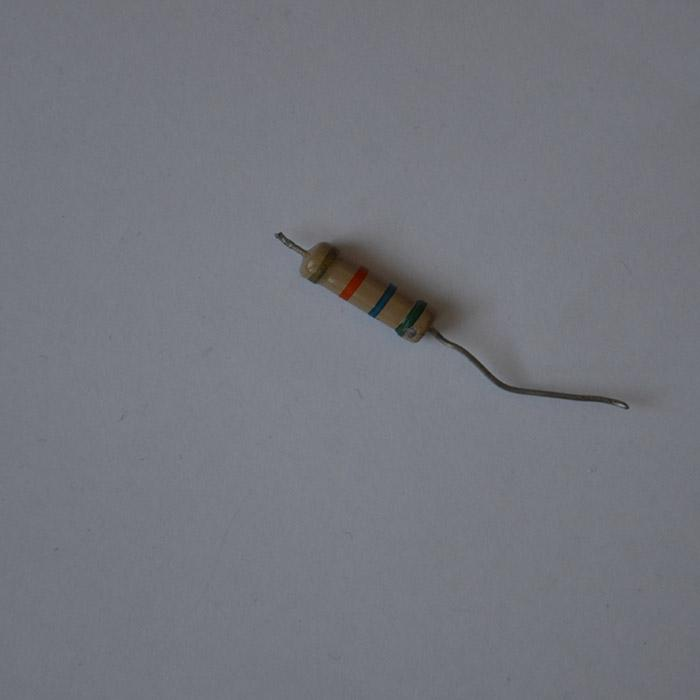resistor: (288, 235, 437, 344)
